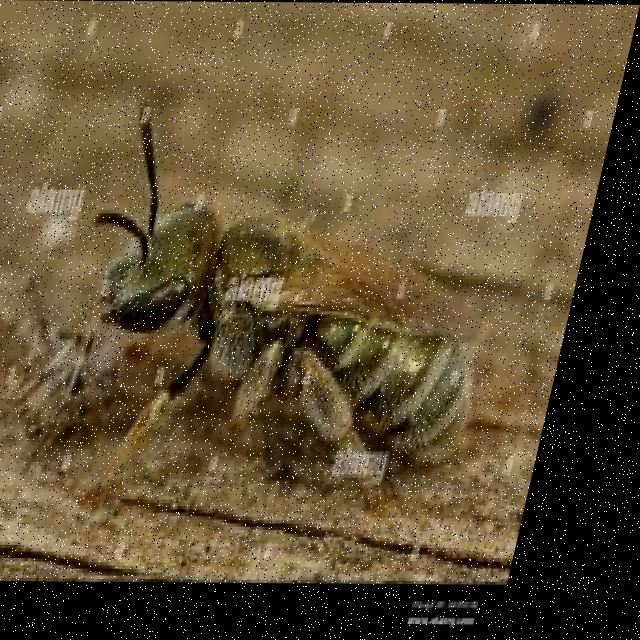Seladonia: (28, 106, 545, 522)
